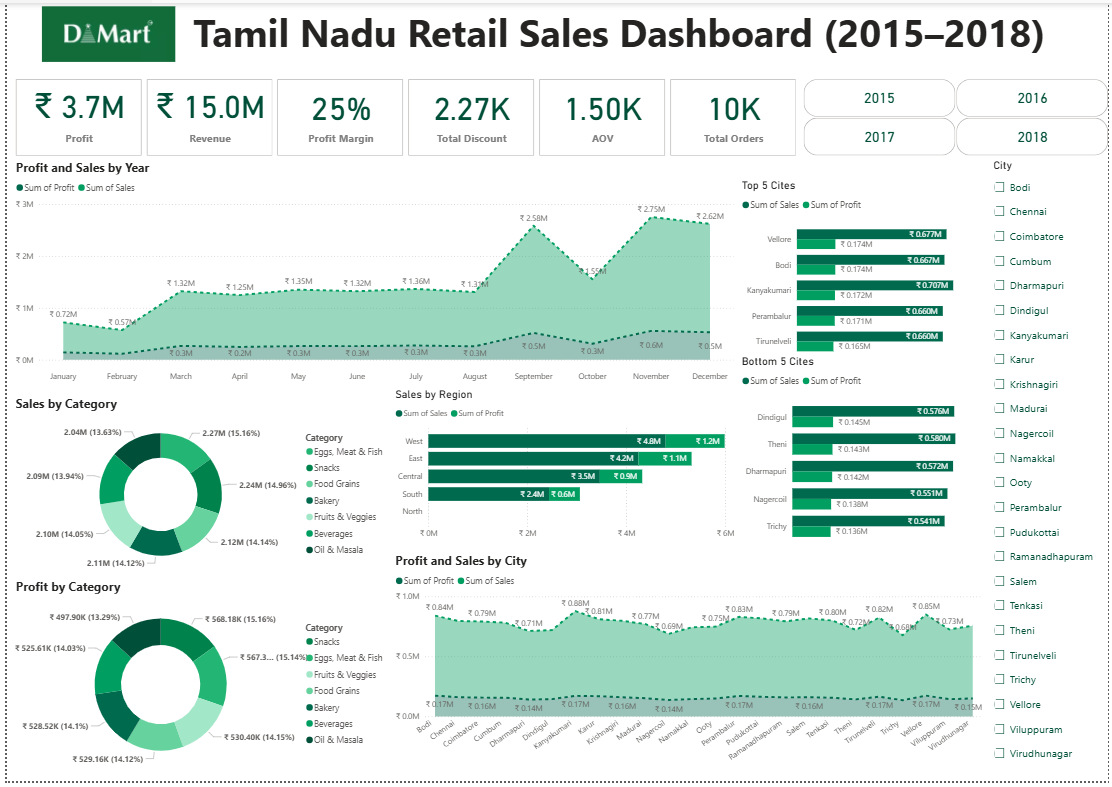

Layout of this report page (visuals, bound fields, positions):
{"tool":"powerbi","page":{"name":"Page 1","canvas":[1700,1200],"ordinal":0},"visuals":[{"type":"advancedSlicerVisual","fields":{"Values":["dmart dmart.Year"]},"box":[1224.3,112.1,480,128],"z":0},{"type":"cardVisual","fields":{"Data":["Sum(dmart dmart.Profit)","Sum(dmart dmart.Sales)","dmart dmart.Profit Margin","Sum(dmart dmart.Discount)","dmart dmart.Average Order Value","dmart dmart.Total Orders"]},"box":[8.3,112.1,1216,128],"z":1000},{"type":"donutChart","title":"Sales by Category","fields":{"Category":["dmart dmart.Category"],"Y":["Sum(dmart dmart.Sales)"]},"box":[8.3,604.6,585,282.5],"z":2000},{"type":"stackedAreaChart","title":"Profit and Sales by Year","fields":{"Y":["Sum(dmart dmart.Profit)","Sum(dmart dmart.Sales)"],"Category":["dmart dmart.Month"]},"box":[8.3,239.6,1117.5,355],"z":3000},{"type":"clusteredBarChart","title":"Top 5 Cites ","fields":{"Category":["dmart dmart.City"],"Y":["Sum(dmart dmart.Sales)","Sum(dmart dmart.Profit)"]},"box":[1128.3,272.1,384,288],"z":4000},{"type":"barChart","title":"Sales by Region","fields":{"Category":["dmart dmart.Region"],"Y":["Sum(dmart dmart.Sales)","Sum(dmart dmart.Profit)"]},"box":[593.3,594.9,532.9,242.4],"z":5000},{"type":"clusteredBarChart","title":"Bottom 5 Cites","fields":{"Category":["dmart dmart.City"],"Y":["Sum(dmart dmart.Sales)","Sum(dmart dmart.Profit)"]},"box":[1128.3,544.1,384,304],"z":6000},{"type":"stackedAreaChart","title":"Profit and Sales by City","fields":{"Y":["Sum(dmart dmart.Profit)","Sum(dmart dmart.Sales)"],"Category":["dmart dmart.City"]},"box":[593.3,847.3,915.6,344.6],"z":7000},{"type":"donutChart","title":"Profit by Category","fields":{"Category":["dmart dmart.Category"],"Y":["Sum(dmart dmart.Profit)"]},"box":[8.3,887.1,585,305],"z":8000},{"type":"listSlicer","fields":{"Values":["dmart dmart.City"]},"box":[1520,240,176,944],"z":9000},{"type":"textbox","box":[-4,0,1704,106],"z":9001},{"type":"image","box":[48,0,216,96],"z":9002}]}

Visuals, with their boxes in screenshot pixels (x1, y1, x2, y2), scaled from the page's 1700x1200 canvas onto the 1112x787 screenshot:
advancedSlicerVisual - dmart dmart.Year: x1=801, y1=74, x2=1111, y2=157
cardVisual - Sum(dmart dmart.Profit) x Sum(dmart dmart.Sales): x1=5, y1=74, x2=801, y2=157
"Sales by Category" donutChart: x1=5, y1=397, x2=388, y2=582
"Profit and Sales by Year" stackedAreaChart: x1=5, y1=157, x2=736, y2=390
"Top 5 Cites " clusteredBarChart: x1=738, y1=178, x2=989, y2=367
"Sales by Region" barChart: x1=388, y1=390, x2=737, y2=549
"Bottom 5 Cites" clusteredBarChart: x1=738, y1=357, x2=989, y2=556
"Profit and Sales by City" stackedAreaChart: x1=388, y1=556, x2=987, y2=782
"Profit by Category" donutChart: x1=5, y1=582, x2=388, y2=782
listSlicer - dmart dmart.City: x1=994, y1=157, x2=1109, y2=777
textbox: x1=0, y1=0, x2=1111, y2=70
image: x1=31, y1=0, x2=173, y2=63
